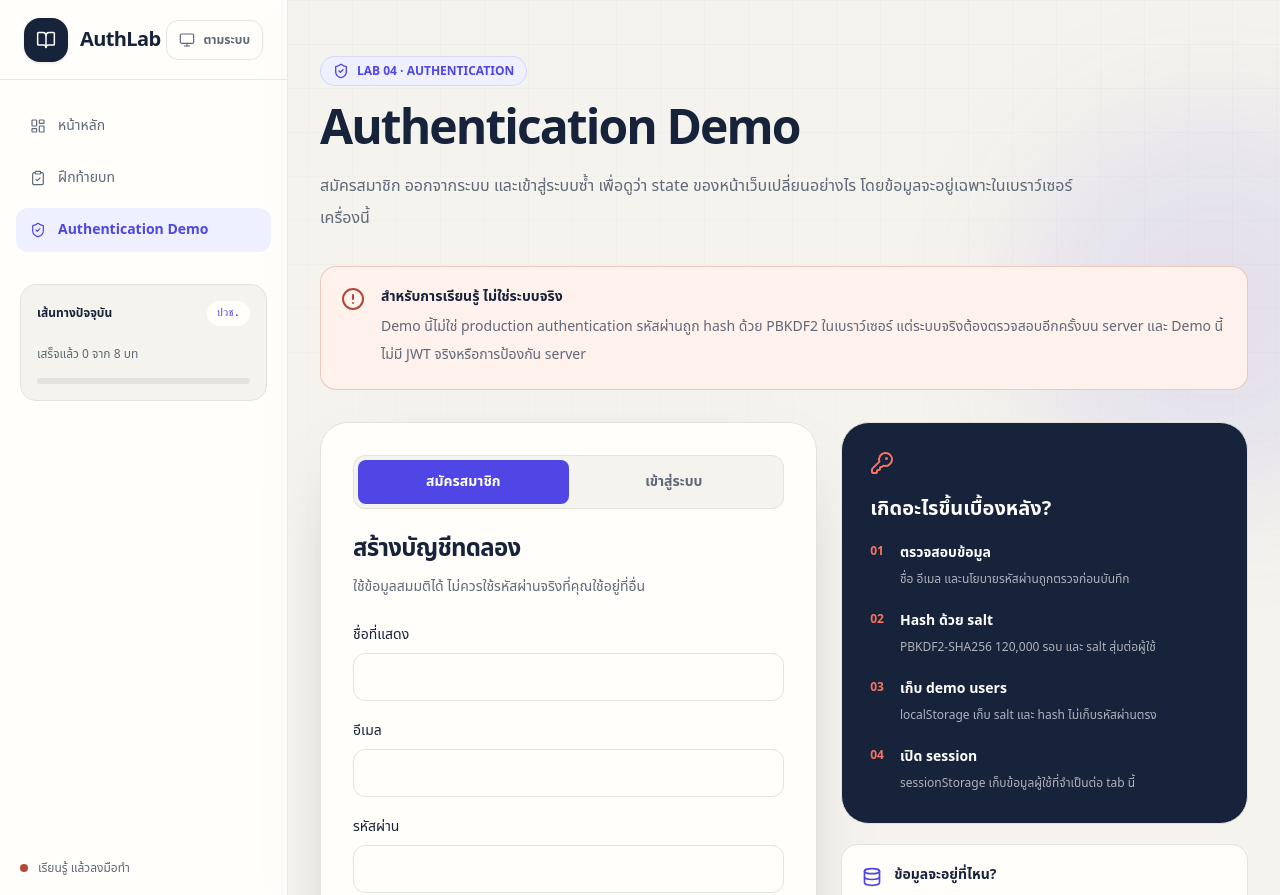
Test case: Authentication Demo page › switches between register and login without exposing the name field in login mode
Click the button "เข้าสู่ระบบ" at (674, 482), box [569,460,779,504]
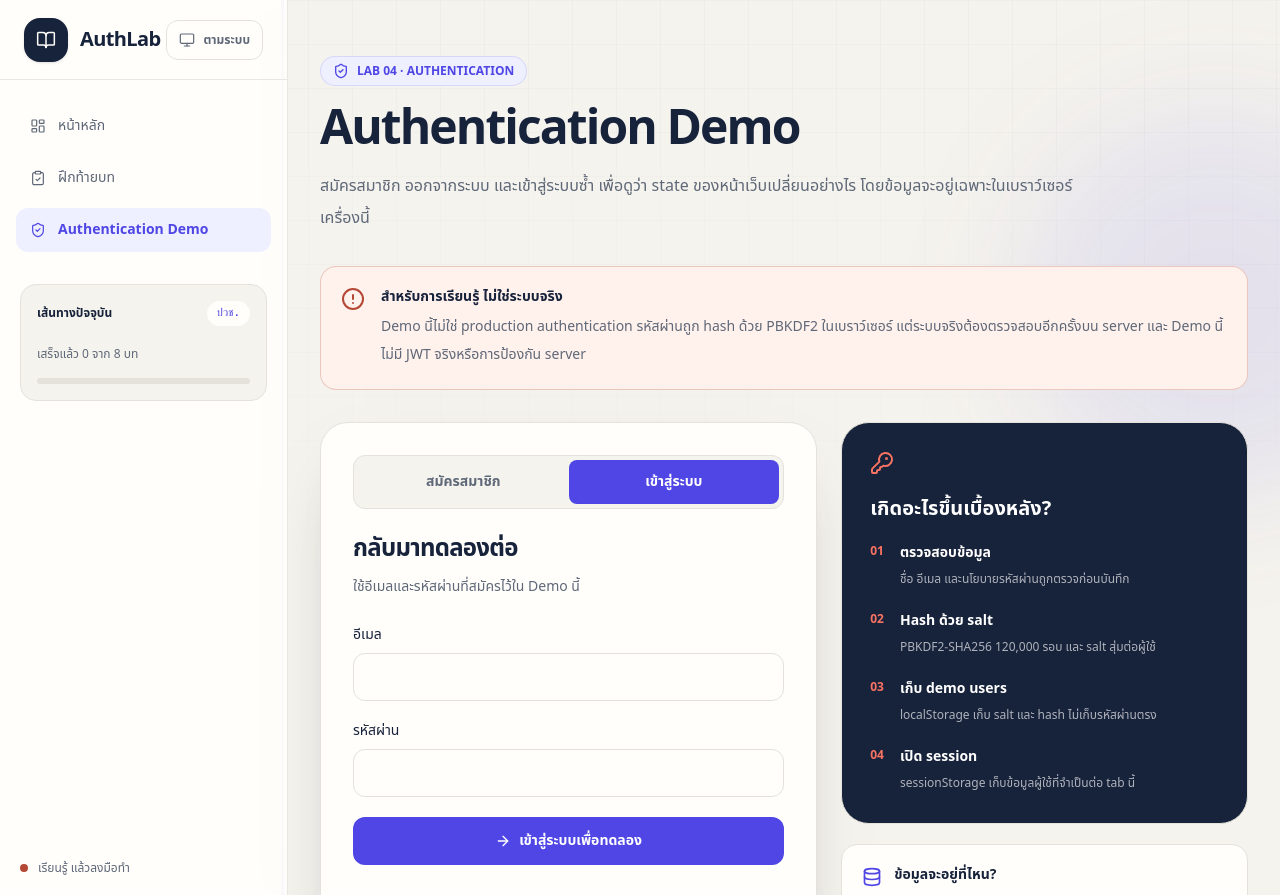
Now the label labelled "ชื่อที่แสดง" is gone
Now the button "เข้าสู่ระบบเพื่อทดลอง" is shown, box [353,817,784,865]
